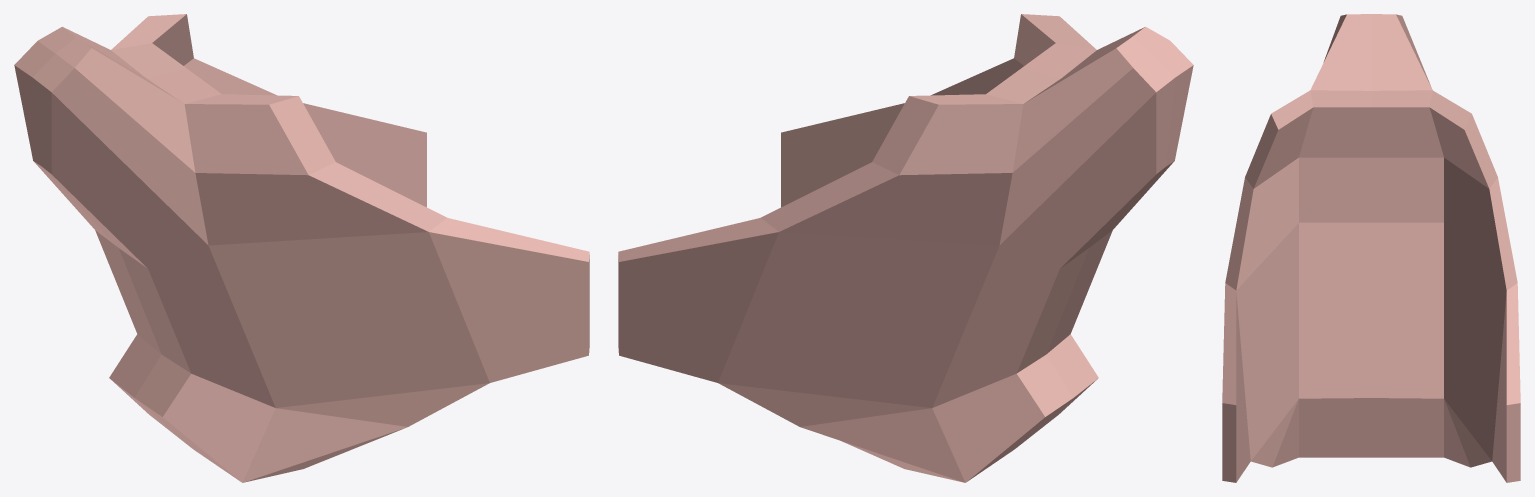
The model's file is cb_knee_2.gltf.
The picture shows the model from 3 angles, left to right: view 1: azimuth 30°, elevation 25°; view 2: azimuth 150°, elevation 25°; view 3: azimuth 270°, elevation 25°; orthographic projection. The views are drawn at different scales.
Parts seen in each view (by area): view 1: Cube.027; view 2: Cube.027; view 3: Cube.027.
Boxes of the visible parts, bbox=[...] form: Cube.027: bbox=[14, 14, 589, 482]; Cube.027: bbox=[618, 14, 1193, 482]; Cube.027: bbox=[1222, 14, 1520, 482].
Size of the model in its own units: 2.36 by 2.1 by 1.54.
